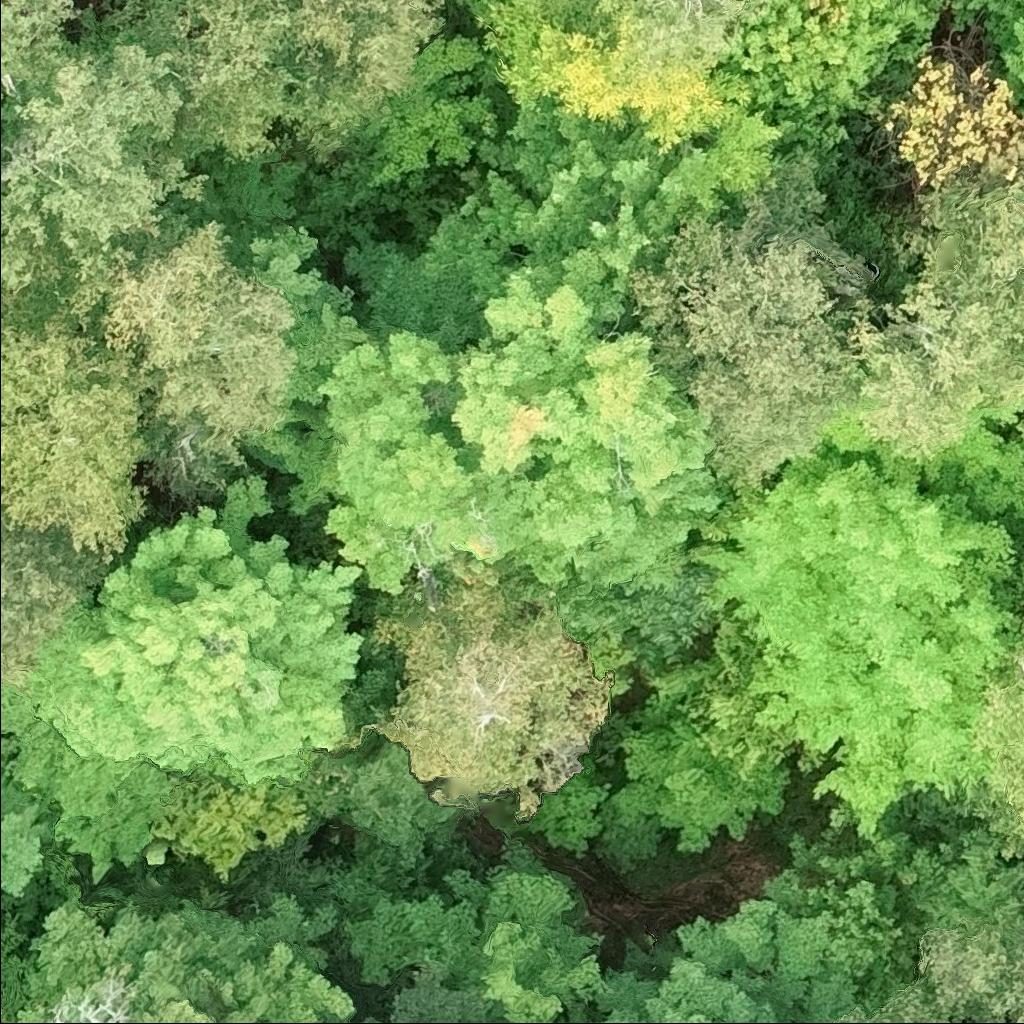crown: (314, 266, 730, 599), (684, 442, 1022, 844), (9, 469, 367, 786), (629, 158, 863, 509), (33, 208, 304, 484), (471, 0, 785, 218), (371, 553, 616, 816), (0, 0, 212, 282), (99, 0, 445, 166), (836, 175, 1023, 455), (343, 832, 613, 1023), (670, 822, 925, 1008), (13, 886, 358, 1023), (461, 121, 687, 329), (0, 289, 157, 564), (241, 224, 373, 516), (0, 683, 177, 884), (601, 717, 788, 870), (718, 0, 943, 122), (344, 202, 516, 349), (592, 940, 863, 1023), (953, 557, 1023, 859), (832, 923, 1023, 1023), (151, 764, 306, 881), (0, 528, 103, 691), (952, 0, 1023, 109), (0, 771, 59, 897), (635, 0, 755, 54), (0, 236, 62, 301), (0, 87, 6, 104), (0, 179, 5, 198), (0, 157, 5, 167), (108, 0, 118, 5)
